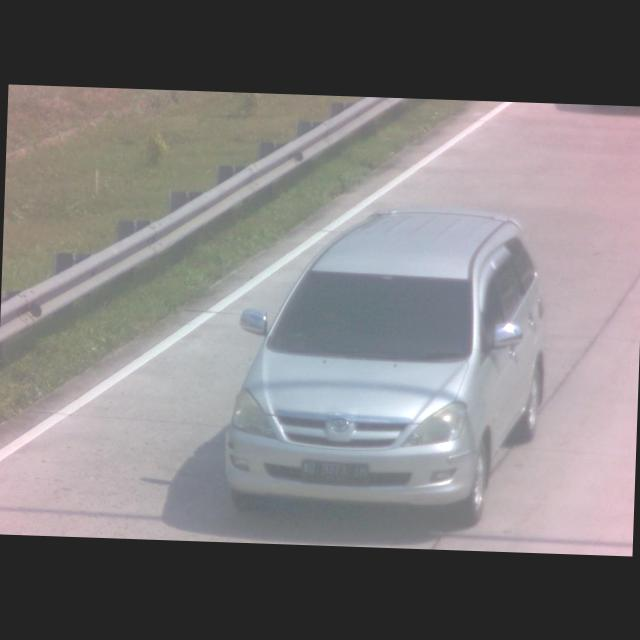plate: (299, 457, 370, 486)
